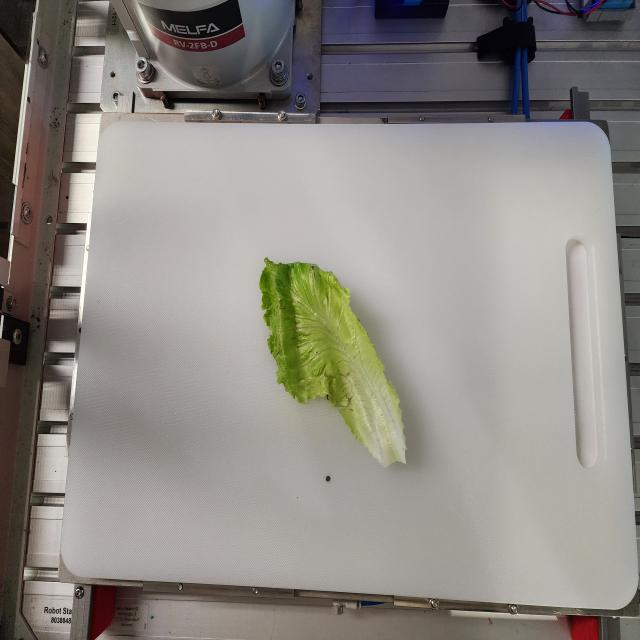lettuce: (258, 256, 408, 469)
